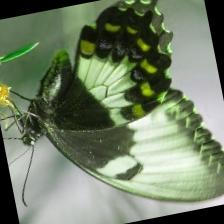butterfly: (24, 0, 224, 202)
